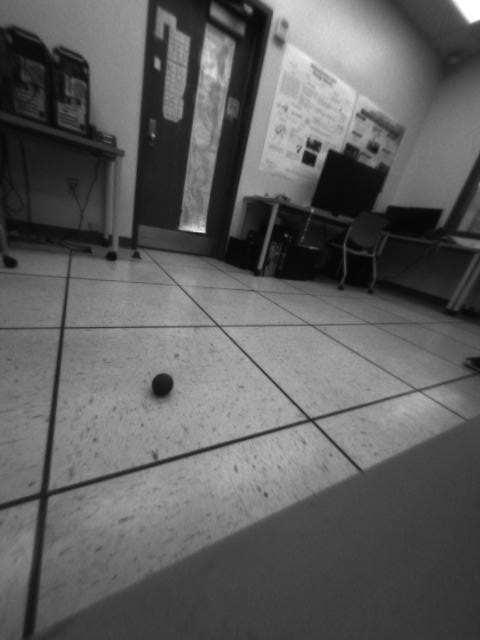dogtoy: (146, 366, 177, 403)
